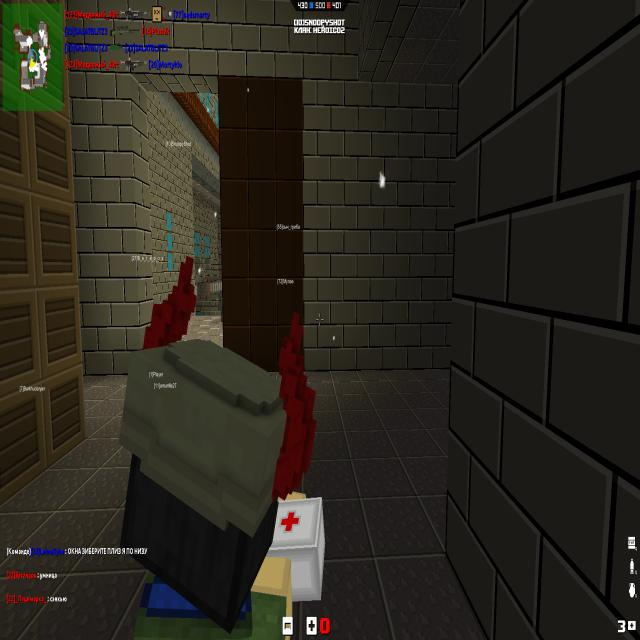player: (140, 296, 304, 638)
